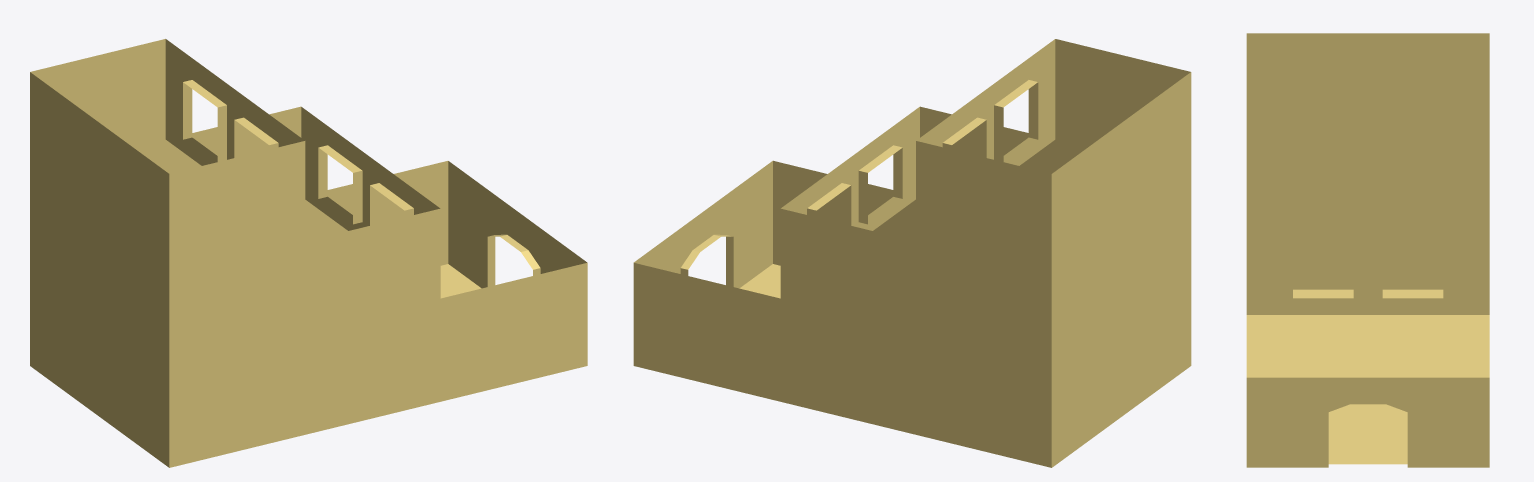
File: Bld_C_low_L5_A.fbx
3 views of the same model, side by side, from view 1: azimuth 30°, elevation 25°; view 2: azimuth 150°, elevation 25°; view 3: azimuth 270°, elevation 25° (orthographic). The views are drawn at different scales.
Visible parts, largest first — view 1: Bld_C_low_L5_A_LOD0; view 2: Bld_C_low_L5_A_LOD0; view 3: Bld_C_low_L5_A_LOD0.
Part boxes in pixels (left/top/right/bottom): Bld_C_low_L5_A_LOD0: left=30, top=39, right=587, bottom=467; Bld_C_low_L5_A_LOD0: left=633, top=39, right=1191, bottom=467; Bld_C_low_L5_A_LOD0: left=1246, top=33, right=1489, bottom=467.
Size of what is drawn, in the model's own units: 2107 by 1542 by 1391.
1 material, 1 textured.
